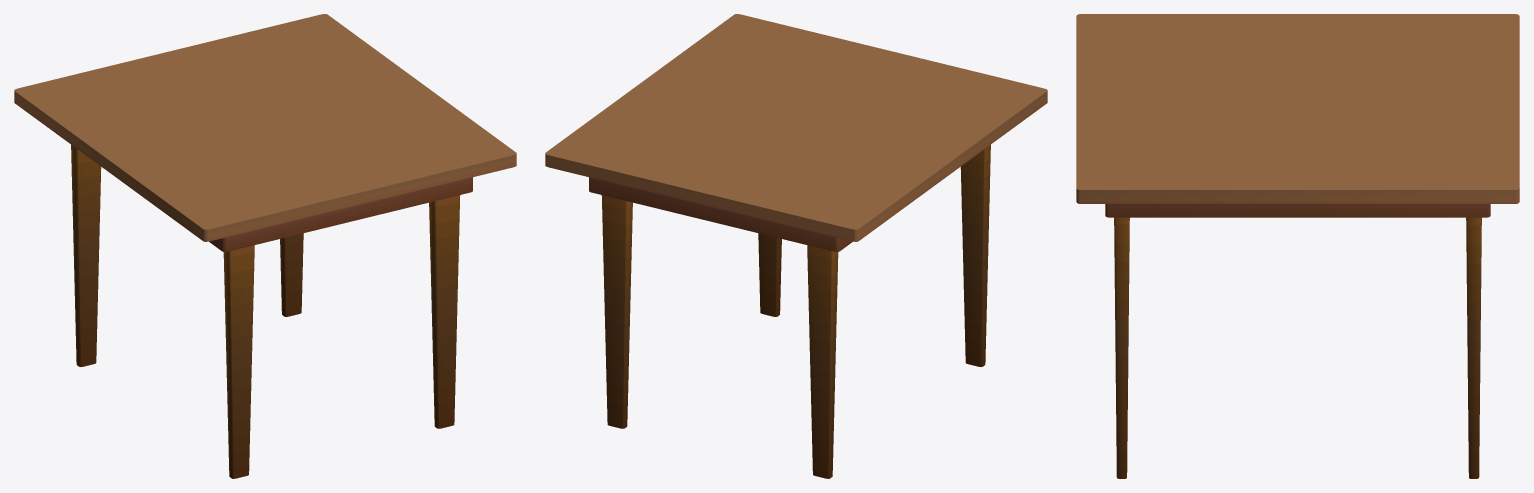
The model's file is table2.fbx.
3 views of the same model, side by side, from view 1: azimuth 30°, elevation 25°; view 2: azimuth 150°, elevation 25°; view 3: azimuth 270°, elevation 25° (orthographic). The views are drawn at different scales.
Parts seen in each view (by area): view 1: table2; view 2: table2; view 3: table2.
Boxes of the visible parts, x1=… form: table2: x1=14, y1=14, x2=516, y2=478; table2: x1=545, y1=14, x2=1047, y2=478; table2: x1=1076, y1=14, x2=1519, y2=478.
Bounding box in the file's own units: 134 × 111 × 142.
